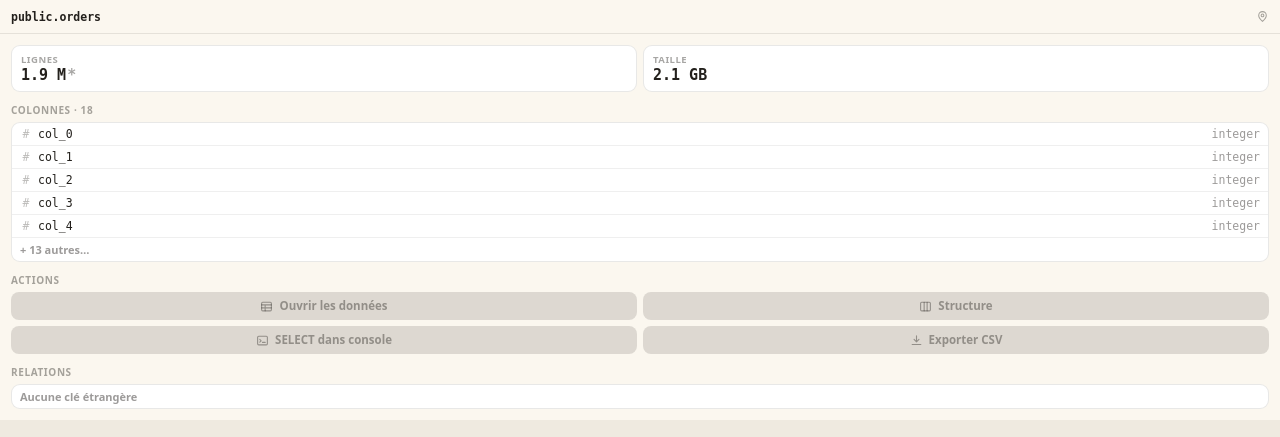
Scenario: chaque action dit dans son infobulle quel écran l’apportera
Step 1. Hover over the button "Ouvrir les données" → (324, 306), box [11,292,637,320]
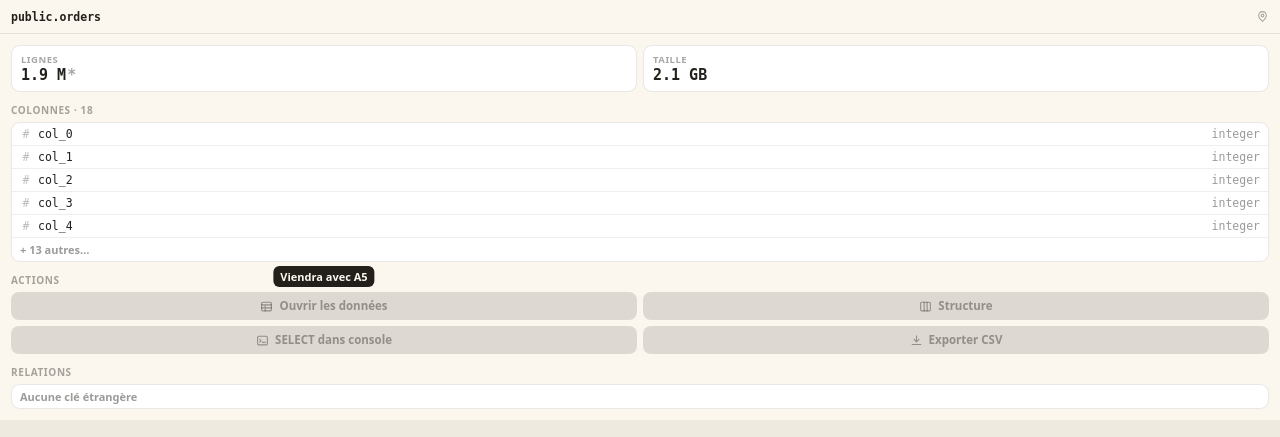
Check: the tooltip shows "A5", box [280,269,368,284]
